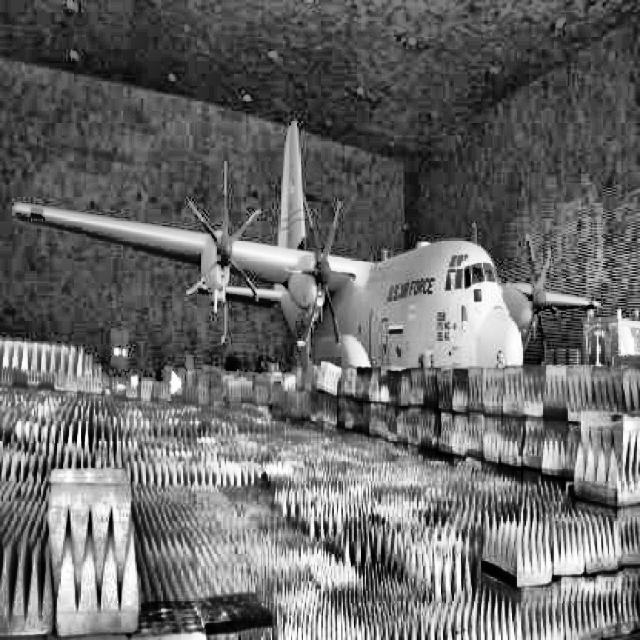C130: (12, 121, 600, 368)
